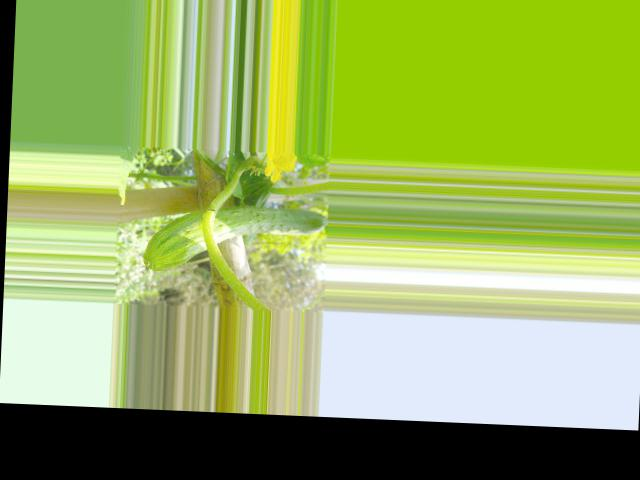cucumber: (143, 201, 328, 276)
